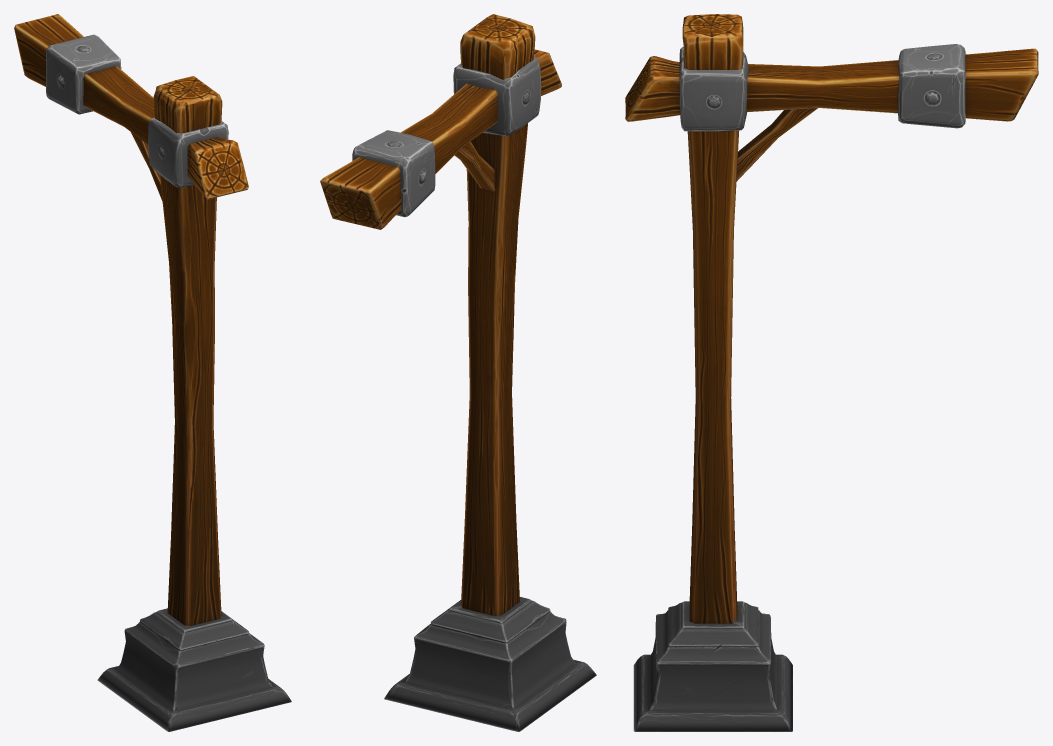
File: ENV0510003.FBX
3 renders of one model, left to right at view 1: azimuth 30°, elevation 25°; view 2: azimuth 150°, elevation 25°; view 3: azimuth 270°, elevation 25°, orthographic. The views are drawn at different scales.
Visible parts, largest first — view 1: smENV0510003; view 2: smENV0510003; view 3: smENV0510003.
Boxes of the visible parts, bbox=[...] form: smENV0510003: bbox=[14, 14, 291, 731]; smENV0510003: bbox=[320, 14, 596, 731]; smENV0510003: bbox=[625, 14, 1038, 731].
Size of the model in its own units: 18.56 by 86.41 by 48.11.
1 material, 1 textured.
